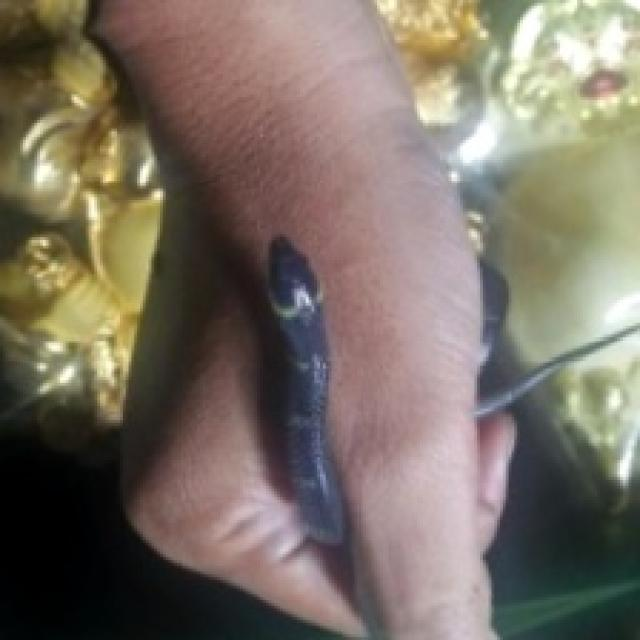gunthers philippine shrub snake: (374, 0, 637, 366), (0, 0, 163, 451), (0, 0, 160, 446), (526, 334, 637, 546)
